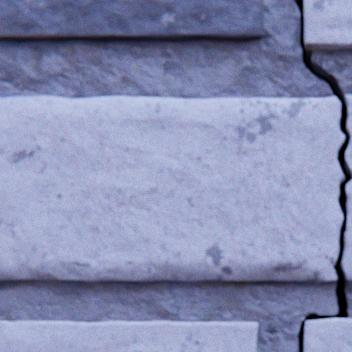brick: (0, 0, 263, 43), (0, 321, 258, 351), (304, 0, 351, 50), (304, 318, 351, 351)
broken_brick: (0, 97, 343, 281), (341, 180, 351, 280), (345, 96, 351, 174)
crack: (293, 0, 351, 351)
